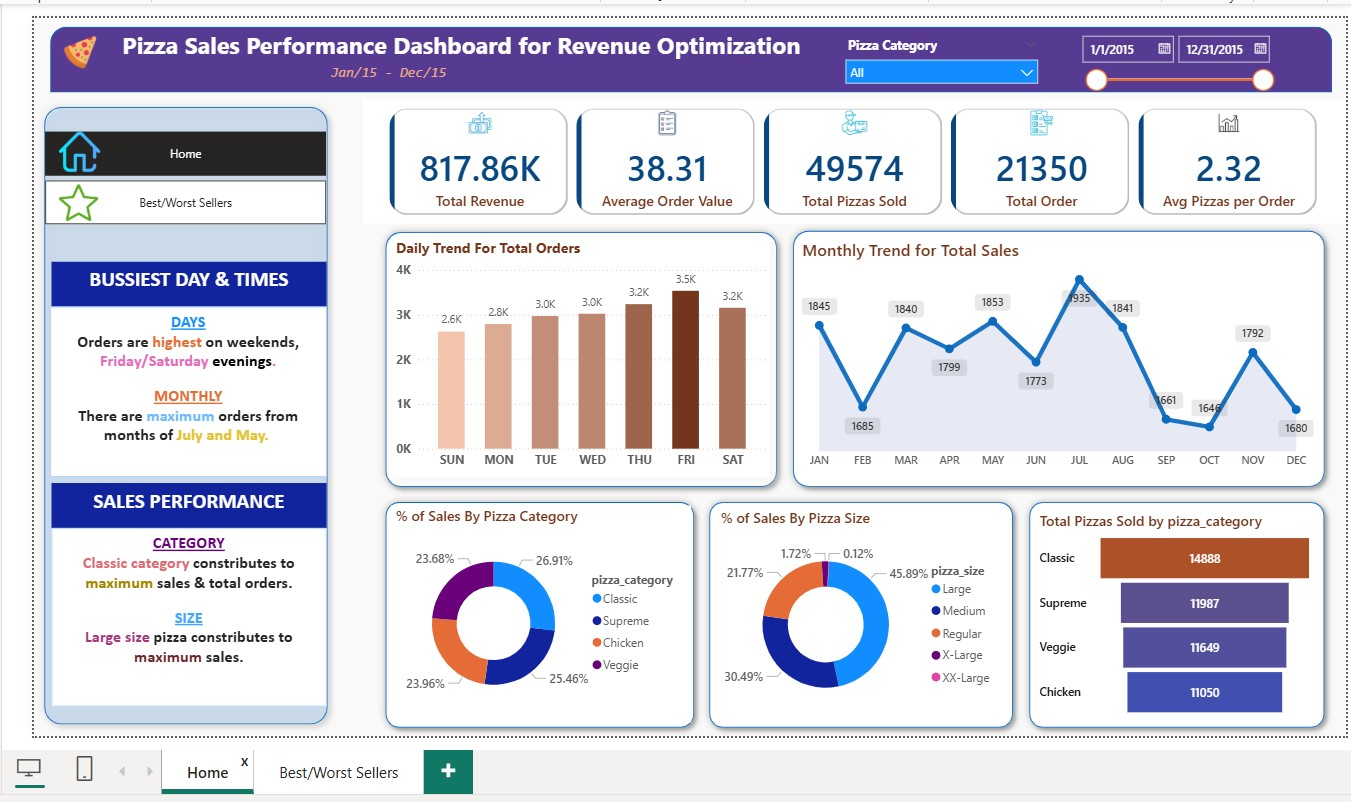

This screenshot's page, from the dashboard's own definition file:
{"tool":"powerbi","page":{"name":"Home","canvas":[1500,820],"ordinal":0},"visuals":[{"type":"cardVisual","fields":{"Data":["pizza_sales.Total Revenue","pizza_sales.Average Order Value","pizza_sales.Total Pizzas Sold","pizza_sales.Total Order","pizza_sales.Avg Pizzas per Order"]},"box":[376,93.3,1123.9,142.1],"z":0},{"type":"shape","box":[18.3,10,1465,75],"z":1000},{"type":"textbox","box":[12,7,954.3,48.6],"z":2000},{"type":"textbox","box":[334.3,48.6,170,34.3],"z":3000},{"type":"image","box":[0,20,105.7,38.6],"z":4000},{"type":"shape","box":[392.7,235.4,465.2,309.2],"z":5000},{"type":"columnChart","title":"Daily Trend For Total Orders","fields":{"Category":["pizza_sales.Order day"],"Y":["pizza_sales.Total Order"]},"box":[408.1,252.1,433.1,273],"z":6000},{"type":"shape","box":[857.9,234,625.3,310.6],"z":7000},{"type":"areaChart","title":"Monthly Trend for Total Sales","fields":{"Category":["pizza_sales.Order Month"],"Y":["pizza_sales.Total Order"]},"box":[873.2,252.1,594.7,273],"z":8000},{"type":"shape","box":[392.7,544.5,370.5,275.7],"z":9000},{"type":"shape","box":[763.2,544.5,364.9,275.7],"z":10000},{"type":"shape","box":[1128.1,544.5,355.1,275.7],"z":11000},{"type":"donutChart","title":"% of Sales By Pizza Category","fields":{"Category":["pizza_sales.pizza_category"],"Y":["pizza_sales.Total Revenue"]},"box":[408.1,557.1,342.6,247.9],"z":12000},{"type":"donutChart","title":"% of Sales By Pizza Size","fields":{"Y":["pizza_sales.Total Revenue"],"Category":["pizza_sales.pizza_size"]},"box":[779.9,559.9,330.1,245.1],"z":13000},{"type":"funnel","fields":{"Category":["pizza_sales.pizza_category"],"Y":["pizza_sales.Total Pizzas Sold"]},"box":[1144.8,562.6,323.1,240.9],"z":14000},{"type":"shape","box":[3.3,93.3,341.7,723.3],"z":15000},{"type":"textbox","box":[20,278.6,314.3,51.4],"z":16000},{"type":"slicer","fields":{"Values":["pizza_sales.pizza_category"]},"box":[916.7,15,240,66.7],"z":17000},{"type":"slicer","fields":{"Values":["pizza_sales.order_date"]},"box":[1185,10,240,75],"z":18000},{"type":"textbox","box":[18.6,330,315.7,194.3],"z":19000},{"type":"textbox","box":[20,531.4,314.3,51.4],"z":20000},{"type":"textbox","box":[20,582.9,314.3,204.3],"z":21000},{"type":"pageNavigator","box":[12.5,129.5,321.7,50.1],"z":22000},{"type":"pageNavigator","box":[12.5,185.2,321.7,50.1],"z":23000},{"type":"image","box":[29.2,125.3,47.4,54.3],"z":24000},{"type":"image","box":[29.2,171.3,44.6,79.4],"z":25000}]}

Visuals, with their boxes on the page's 1500x820 design canvas (x1, y1, x2, y2). These are canvas units, not pixel positions in the 1351x802 screenshot, which may show the page scaled, cropped or inside an application window:
cardVisual - pizza_sales.Total Revenue x pizza_sales.Average Order Value: <region>376, 93, 1500, 235</region>
shape: <region>18, 10, 1483, 85</region>
textbox: <region>12, 7, 966, 56</region>
textbox: <region>334, 49, 504, 83</region>
image: <region>0, 20, 106, 59</region>
shape: <region>393, 235, 858, 545</region>
"Daily Trend For Total Orders" columnChart: <region>408, 252, 841, 525</region>
shape: <region>858, 234, 1483, 545</region>
"Monthly Trend for Total Sales" areaChart: <region>873, 252, 1468, 525</region>
shape: <region>393, 544, 763, 820</region>
shape: <region>763, 544, 1128, 820</region>
shape: <region>1128, 544, 1483, 820</region>
"% of Sales By Pizza Category" donutChart: <region>408, 557, 751, 805</region>
"% of Sales By Pizza Size" donutChart: <region>780, 560, 1110, 805</region>
funnel - pizza_sales.pizza_category x pizza_sales.Total Pizzas Sold: <region>1145, 563, 1468, 804</region>
shape: <region>3, 93, 345, 817</region>
textbox: <region>20, 279, 334, 330</region>
slicer - pizza_sales.pizza_category: <region>917, 15, 1157, 82</region>
slicer - pizza_sales.order_date: <region>1185, 10, 1425, 85</region>
textbox: <region>19, 330, 334, 524</region>
textbox: <region>20, 531, 334, 583</region>
textbox: <region>20, 583, 334, 787</region>
pageNavigator: <region>12, 130, 334, 180</region>
pageNavigator: <region>12, 185, 334, 235</region>
image: <region>29, 125, 77, 180</region>
image: <region>29, 171, 74, 251</region>
